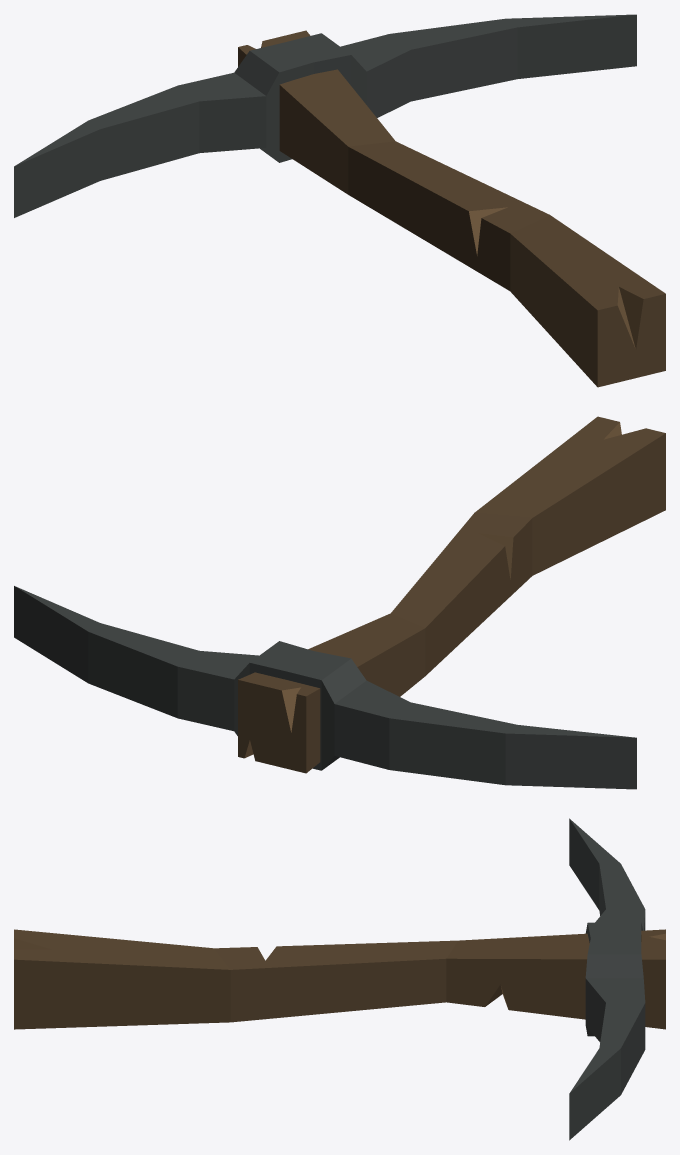
Rendered from Pickaxe_1_Brown.fbx.
3 views of the same model, one above another, from view 1: azimuth 30°, elevation 25°; view 2: azimuth 150°, elevation 25°; view 3: azimuth 270°, elevation 25° (orthographic). The views are drawn at different scales.
Visible parts, largest first — view 1: Pickaxe_1_Brown_Part_3, Pickaxe_1_Brown_Part_1, Pickaxe_1_Brown_Part_2; view 2: Pickaxe_1_Brown_Part_3, Pickaxe_1_Brown_Part_1, Pickaxe_1_Brown_Part_2; view 3: Pickaxe_1_Brown_Part_1, Pickaxe_1_Brown_Part_3.
Part boxes in pixels (x1,y1,x2,y2): Pickaxe_1_Brown_Part_3: [14, 14, 636, 217]; Pickaxe_1_Brown_Part_1: [238, 30, 665, 387]; Pickaxe_1_Brown_Part_2: [261, 43, 643, 349]; Pickaxe_1_Brown_Part_3: [14, 586, 636, 789]; Pickaxe_1_Brown_Part_1: [238, 416, 665, 773]; Pickaxe_1_Brown_Part_2: [244, 422, 621, 757]; Pickaxe_1_Brown_Part_1: [14, 929, 665, 1029]; Pickaxe_1_Brown_Part_3: [569, 818, 645, 1140].
Bounding box in the file's own units: 50 × 6.94 × 50.
